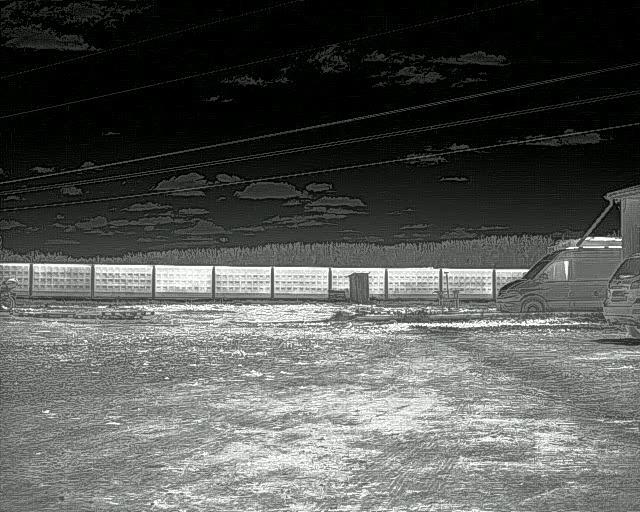ufo-thermal: (218, 235, 230, 244)
